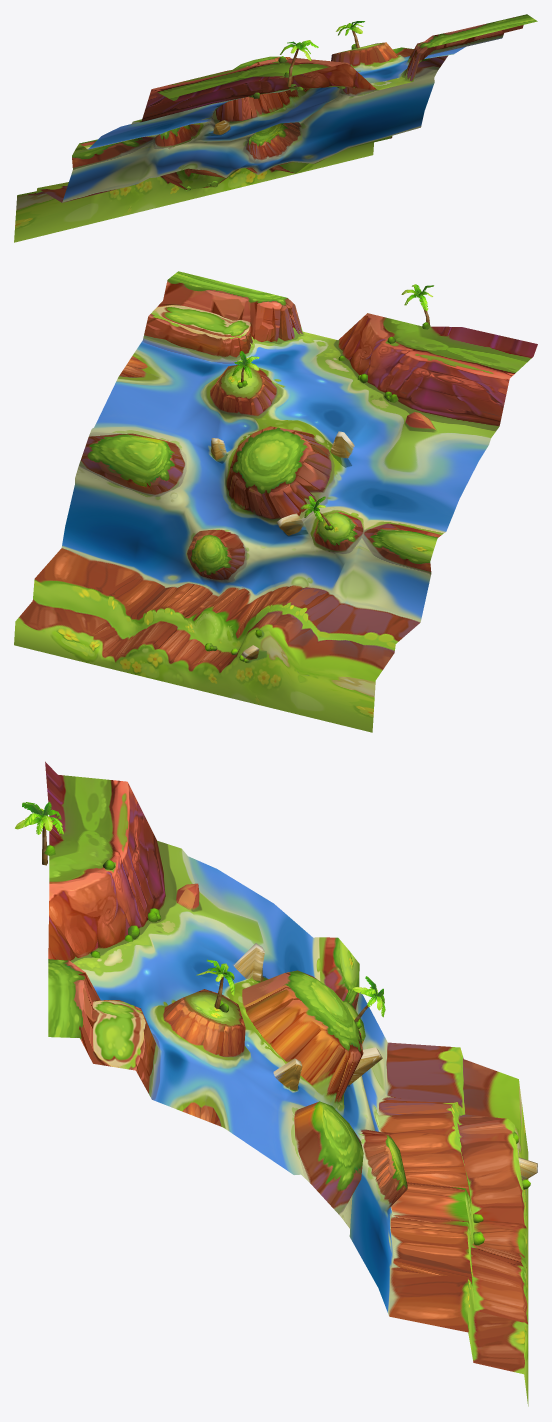
The model's file is Chapter6Model1.FBX.
3 renders of one model, top to bottom at view 1: azimuth 30°, elevation 25°; view 2: azimuth 150°, elevation 25°; view 3: azimuth 270°, elevation 25°, orthographic. The views are drawn at different scales.
Visible parts, largest first — view 1: Chapter6Model1Model1, Chapter6Model1Model2; view 2: Chapter6Model1Model1, Chapter6Model1Model2; view 3: Chapter6Model1Model1, Chapter6Model1Model2.
Boxes of the visible parts, x1,y1,x2,y2 form: Chapter6Model1Model1: (14,14,537,242); Chapter6Model1Model2: (184,21,364,191); Chapter6Model1Model1: (14,271,537,732); Chapter6Model1Model2: (205,284,433,662); Chapter6Model1Model1: (45,761,537,1406); Chapter6Model1Model2: (15,802,530,1245).
Size of the model in its own units: 970 by 840 by 761.
